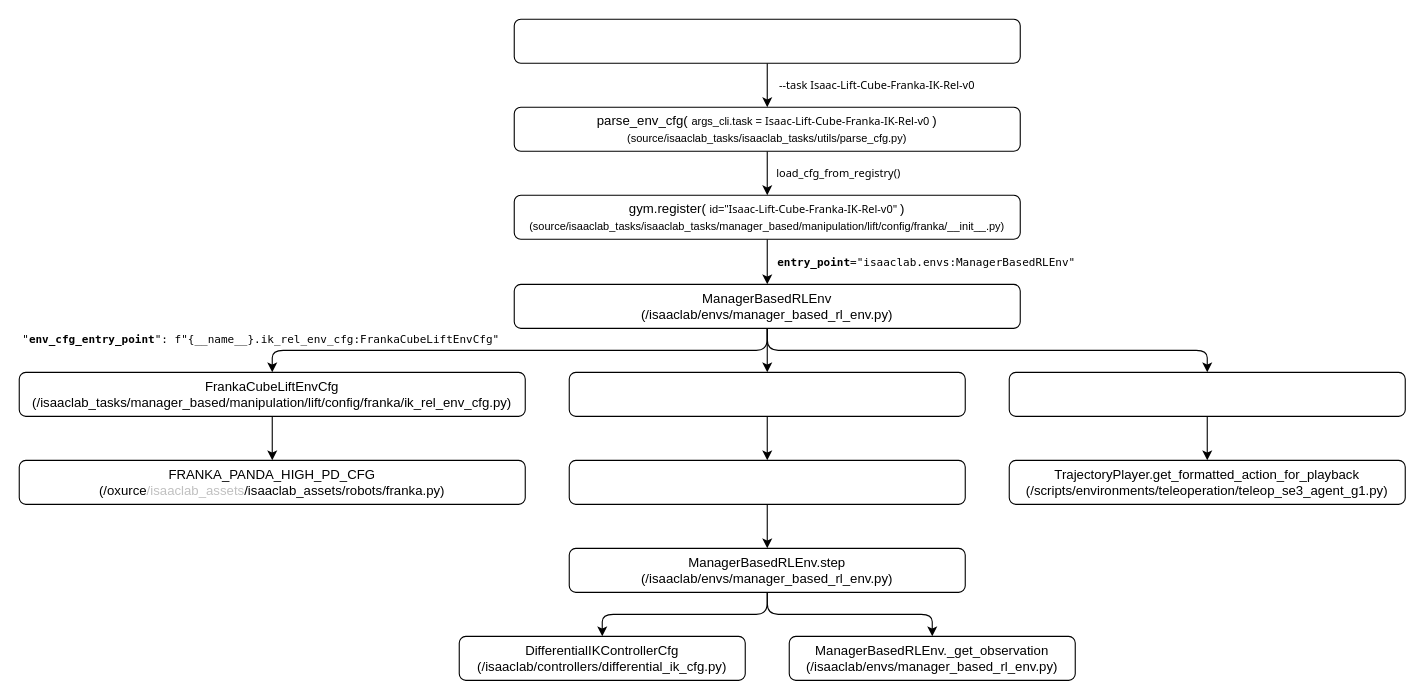
Image size: 1425x700. Some labels were removed from this diagram. Each missing label, with the centre of its shape:
"main() (/scripts/environments/teleoperation/teleop_se3_agent_g1.py)" goes at point (766, 40).
"pre_process_actions (/scripts/environments/teleoperation/teleop_se3_agent_g1.py)" goes at point (766, 481).
"Se3Keyboard (/isaaclab/devices/keyboard/se3_keyboard.py)" goes at point (766, 393).
"TrajectoryPlayer (/scripts/environments/teleoperation/teleop_se3_agent_g1.py)" goes at point (1206, 393).
